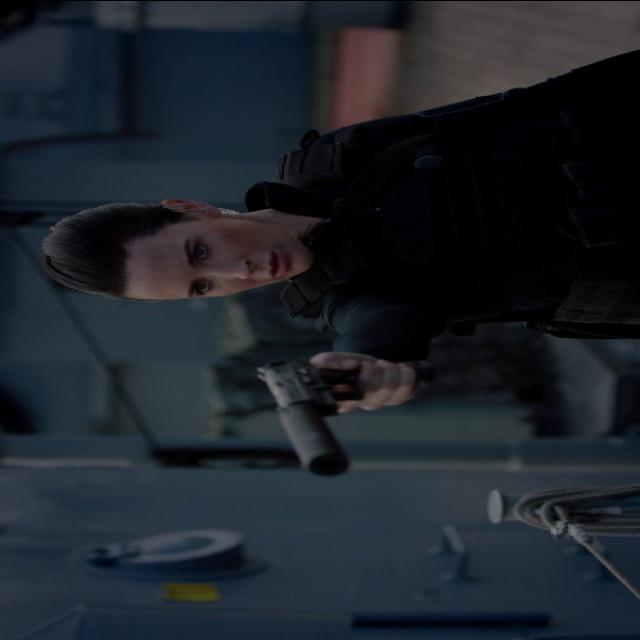weapons: (242, 346, 428, 481)
